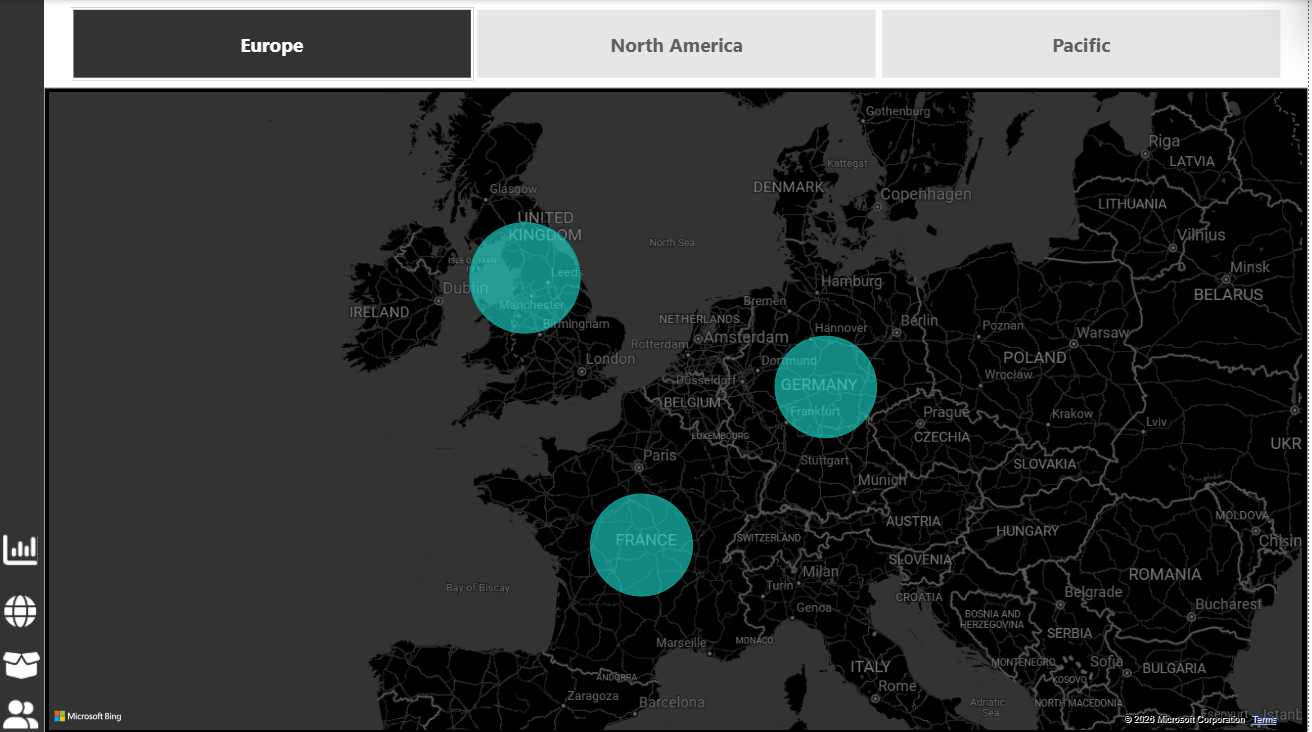

The page's visual inventory and layout, read from the dashboard file:
{"tool":"powerbi","page":{"name":"Map","canvas":[1280,720],"ordinal":1},"visuals":[{"type":"shape","box":[0,0,45,720],"z":0},{"type":"map","fields":{"Category":["Territory Lookup.territory hirarchy.Continent","Territory Lookup.territory hirarchy.Country"],"Size":["Measure Table.Total orders"]},"box":[44.3,85.7,1235.7,634.3],"z":1000},{"type":"actionButton","box":[0,517,45.2,41.6],"z":1000,"group":"g1"},{"type":"slicer","fields":{"Values":["Territory Lookup.Continent"]},"box":[44.3,0,1235.7,85.7],"z":2000},{"type":"actionButton","box":[0,627.1,44,46.5],"z":2000,"group":"g1"},{"type":"group","id":"g1","title":"Navigation buttons","box":[0,517,46.5,203],"z":3000},{"type":"actionButton","box":[0,677.2,44,42.8],"z":3000,"group":"g1"},{"type":"actionButton","box":[1.2,578.2,45.2,39.1],"z":4000,"group":"g1"}]}

Visuals, with their boxes on the page's 1280x720 design canvas (x1, y1, x2, y2). These are canvas units, not pixel positions in the 1312x732 screenshot, which may show the page scaled, cropped or inside an application window:
shape: 0:0:45:720
map - Territory Lookup.territory hirarchy.Continent x Territory Lookup.territory hirarchy.Country: 44:86:1280:720
actionButton: 0:517:45:559
slicer - Territory Lookup.Continent: 44:0:1280:86
actionButton: 0:627:44:674
"Navigation buttons" group: 0:517:46:720
actionButton: 0:677:44:720
actionButton: 1:578:46:617
